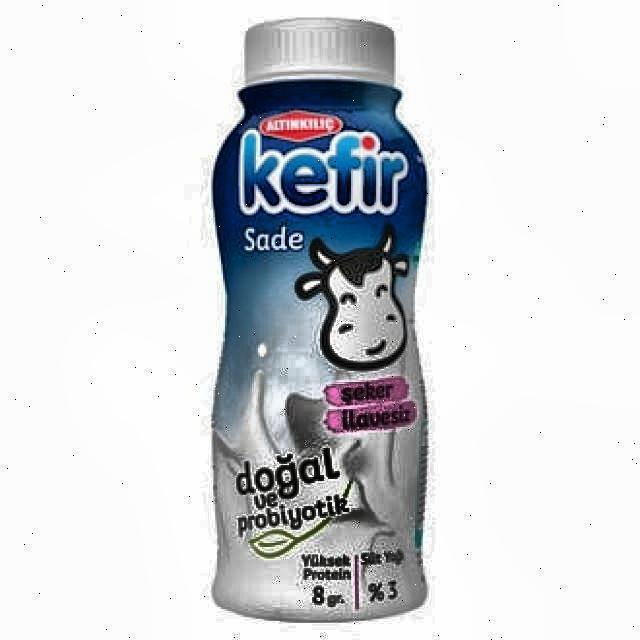plastic: (210, 17, 431, 628)
